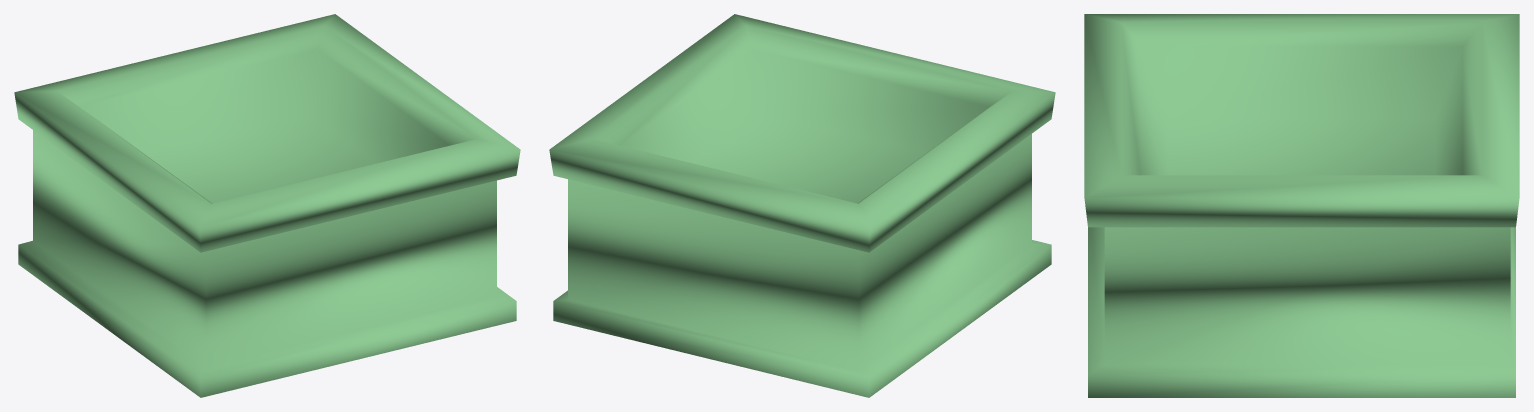
Rendered from Item_bin.fbx.
The picture shows the model from 3 angles, left to right: view 1: azimuth 30°, elevation 25°; view 2: azimuth 150°, elevation 25°; view 3: azimuth 270°, elevation 25°; orthographic projection. The views are drawn at different scales.
Visible parts, largest first — view 1: item_Bin; view 2: item_Bin; view 3: item_Bin.
Part boxes in pixels (x1=…): item_Bin: x1=14, y1=14, x2=520, y2=397; item_Bin: x1=549, y1=14, x2=1055, y2=397; item_Bin: x1=1084, y1=14, x2=1519, y2=397.
Bounding box in the file's own units: 204 × 108 × 204.
